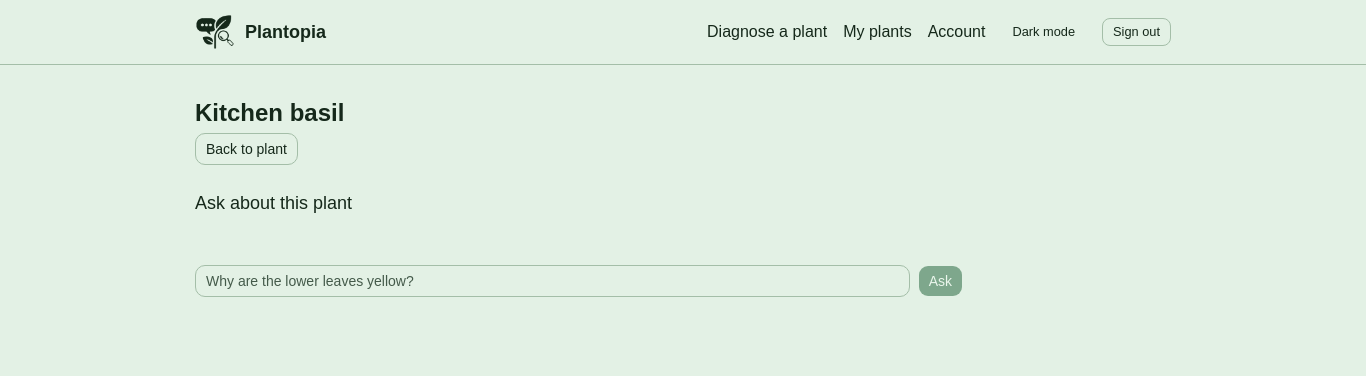
asking something › shows the reply from the transcript once it is done
This screenshot has width=1366, height=376.
Step 1. Type "Why are the leaves yellow?" into the field named "Your question" → (552, 281), box [195,265,910,297]
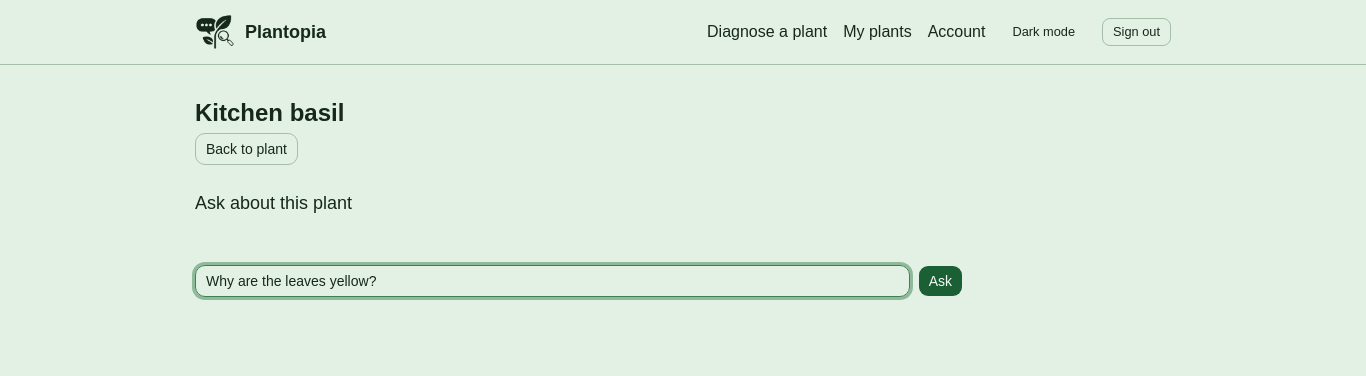
Step 2. Click the button "Ask" → click(940, 281), box [918,265,963,297]
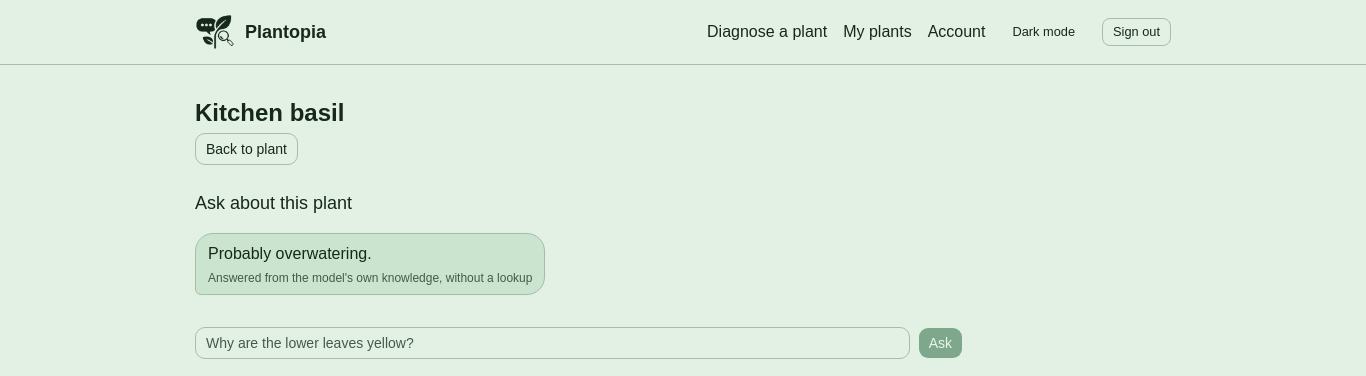
Now the text "Probably overwatering." is shown, box [208,245,372,262]
